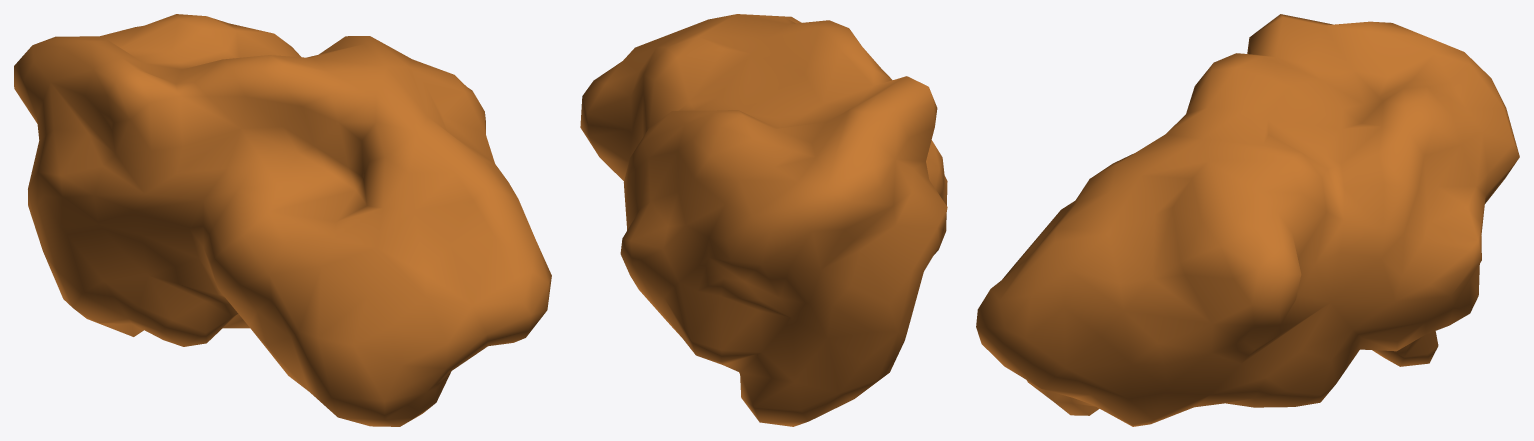
File: AntiTrypsin.fbx
The picture shows the model from 3 angles, left to right: view 1: azimuth 30°, elevation 25°; view 2: azimuth 150°, elevation 25°; view 3: azimuth 270°, elevation 25°; orthographic projection.
Parts seen in each view (by area): view 1: CoarseMS_1atuRed85; view 2: CoarseMS_1atuRed85; view 3: CoarseMS_1atuRed85.
Part boxes in pixels (x1,y1,x2,y2): CoarseMS_1atuRed85: [14, 14, 551, 426]; CoarseMS_1atuRed85: [580, 14, 947, 426]; CoarseMS_1atuRed85: [976, 14, 1519, 426].
Bounding box in the file's own units: 59.19 × 45.91 × 70.1.
